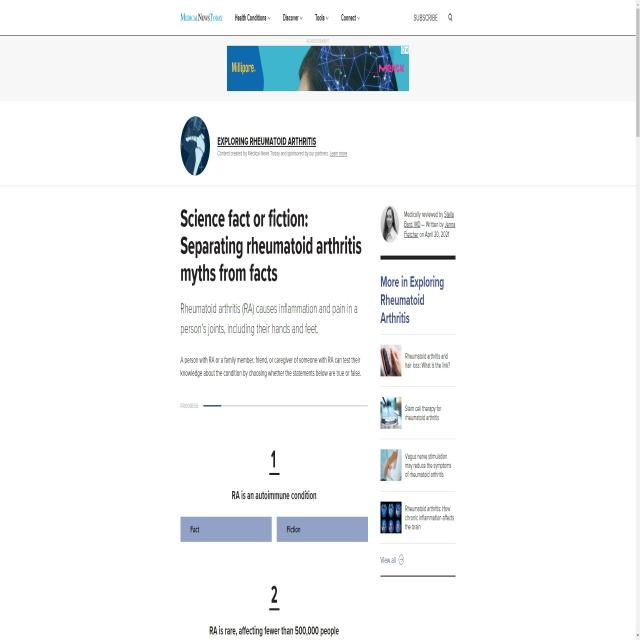menu-bar: (411, 6, 461, 27)
side-panel: (378, 201, 462, 580)
tab-bar: (230, 5, 368, 28)
